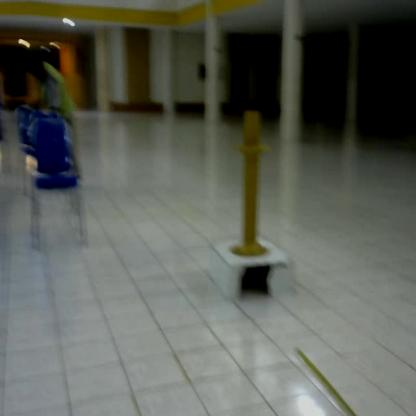pole: (230, 107, 273, 261)
